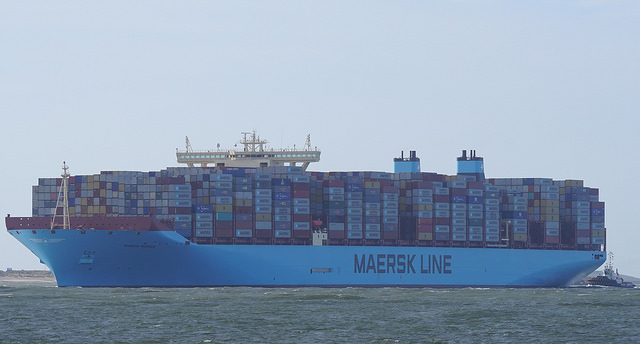container_ship: (5, 134, 610, 290)
tug_boat: (591, 252, 637, 291)
